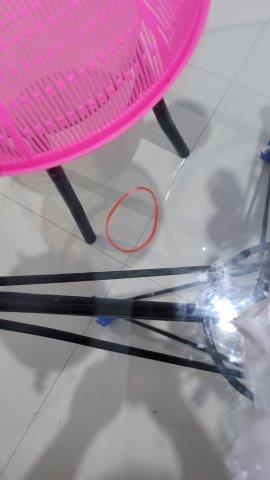karet: (103, 186, 160, 252)
